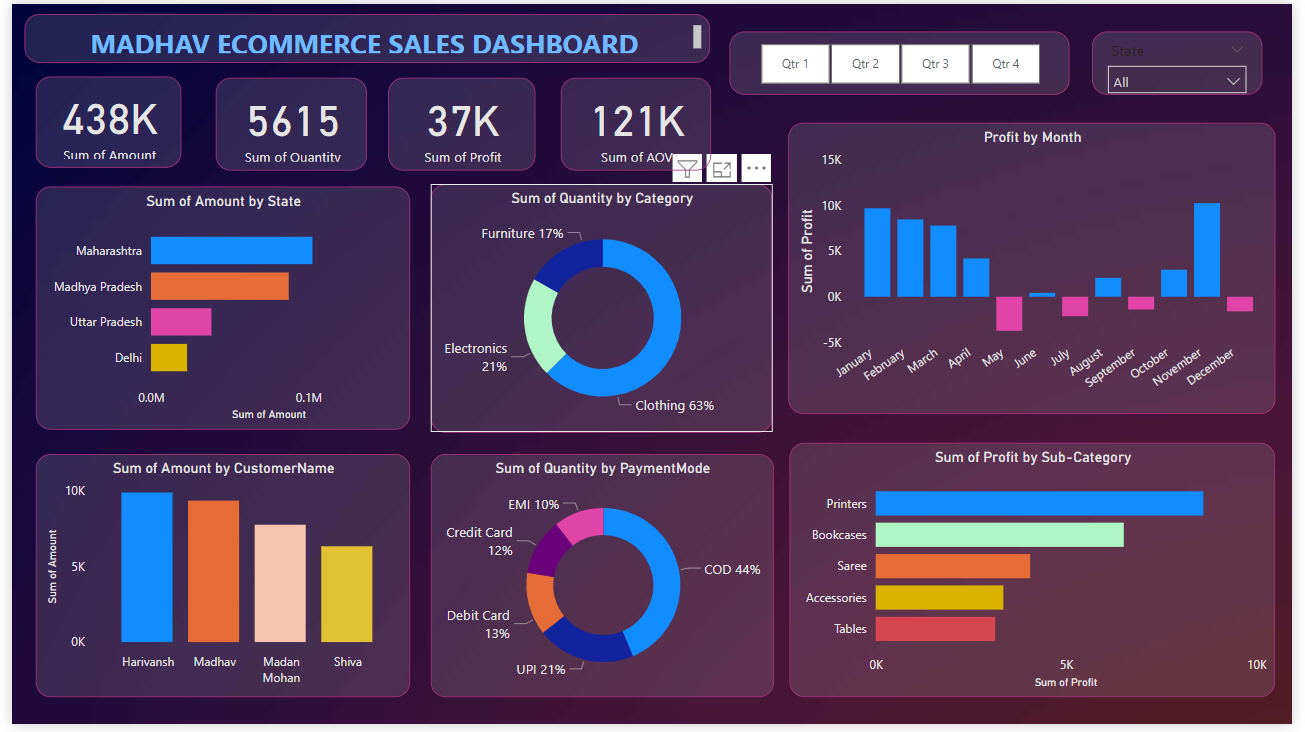

This screenshot's page, from the dashboard's own definition file:
{"tool":"powerbi","page":{"name":"Page 1","canvas":[1280,720],"ordinal":0},"visuals":[{"type":"textbox","box":[12.9,10,685.7,48.6],"z":0},{"type":"columnChart","title":"Profit by Month","fields":{"Category":["Orders.Order Date.Variation.Date Hierarchy.Month"],"Y":["Details.Profit"]},"box":[775.7,118.6,487.1,291.4],"z":1000},{"type":"barChart","fields":{"Category":["Details.Sub-Category"],"Y":["Details.Profit"]},"box":[777.1,438.6,485.7,254.3],"z":2000},{"type":"donutChart","fields":{"Category":["Details.Category"],"Y":["Details.Quantity"]},"box":[418.6,180,341.4,248.6],"z":3000},{"type":"donutChart","fields":{"Category":["Details.PaymentMode"],"Y":["Details.Quantity"]},"box":[418.6,450,342.9,242.9],"z":4000},{"type":"card","fields":{"Values":["Details.Amount"]},"box":[24.3,72.9,145.7,91.4],"z":5000},{"type":"card","fields":{"Values":["Details.Quantity"]},"box":[204.3,74.3,151.4,92.9],"z":6000},{"type":"card","fields":{"Values":["Details.Profit"]},"box":[375.7,74.3,147.1,92.9],"z":7000},{"type":"card","fields":{"Values":["Details.AOV"]},"box":[548.6,74.3,150,92.9],"z":8000},{"type":"barChart","fields":{"Category":["Orders.State"],"Y":["Details.Amount"]},"box":[24.3,182.9,374.3,242.9],"z":9000},{"type":"columnChart","fields":{"Category":["Orders.CustomerName"],"Y":["Details.Amount"]},"box":[24.3,450,374.3,242.9],"z":10000},{"type":"slicer","fields":{"Values":["Orders.Order Date.Variation.Date Hierarchy.Quarter"]},"box":[717.1,27.1,340,62.9],"z":11000},{"type":"slicer","fields":{"Values":["Orders.State"]},"box":[1080,27.1,170,62.9],"z":12000}]}

Visuals, with their boxes in screenshot pixels (x1, y1, x2, y2), scaled from the page's 1280x720 canvas onto the 1305x732 screenshot:
textbox: <bbox>13, 10, 712, 60</bbox>
"Profit by Month" columnChart: <bbox>791, 121, 1287, 417</bbox>
barChart - Details.Sub-Category x Details.Profit: <bbox>792, 446, 1287, 704</bbox>
donutChart - Details.Category x Details.Quantity: <bbox>427, 183, 775, 436</bbox>
donutChart - Details.PaymentMode x Details.Quantity: <bbox>427, 458, 776, 704</bbox>
card - Details.Amount: <bbox>25, 74, 173, 167</bbox>
card - Details.Quantity: <bbox>208, 76, 363, 170</bbox>
card - Details.Profit: <bbox>383, 76, 533, 170</bbox>
card - Details.AOV: <bbox>559, 76, 712, 170</bbox>
barChart - Orders.State x Details.Amount: <bbox>25, 186, 406, 433</bbox>
columnChart - Orders.CustomerName x Details.Amount: <bbox>25, 458, 406, 704</bbox>
slicer - Orders.Order Date.Variation.Date Hierarchy.Quarter: <bbox>731, 28, 1078, 92</bbox>
slicer - Orders.State: <bbox>1101, 28, 1274, 92</bbox>
